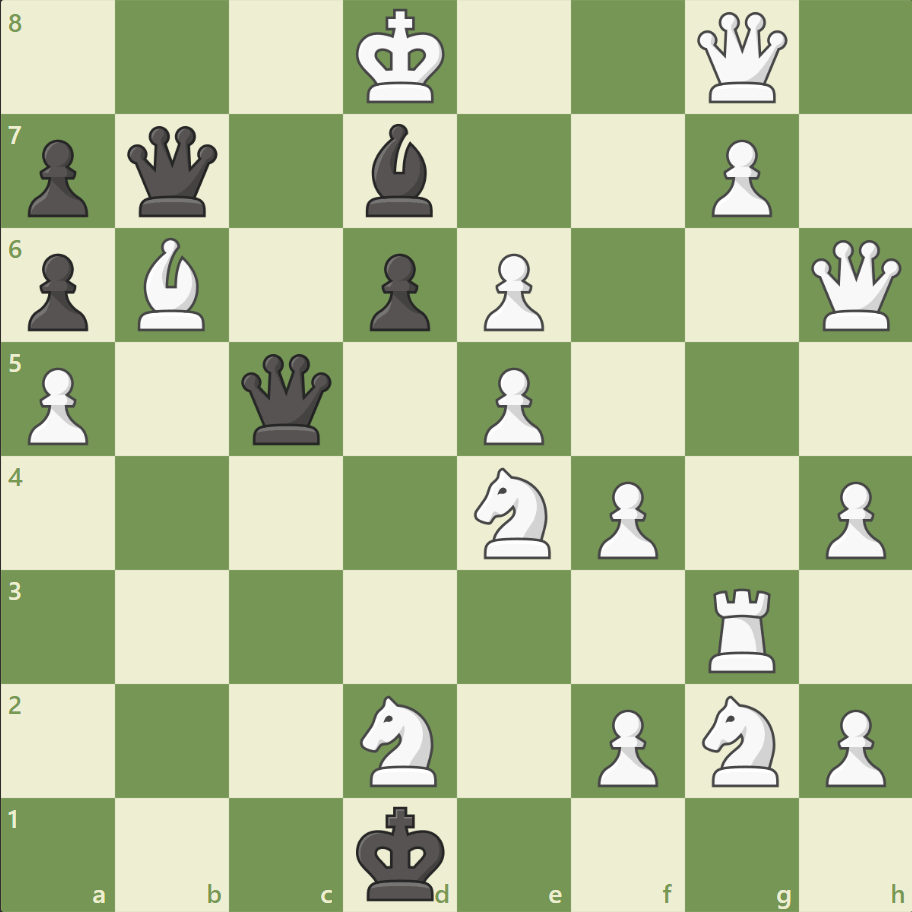B: (131, 233, 215, 336)
K: (351, 4, 451, 112)
N: (351, 688, 449, 791), (465, 461, 562, 564), (692, 688, 789, 791)
P: (701, 132, 776, 223), (474, 246, 549, 337), (20, 359, 95, 450), (474, 359, 549, 450), (588, 473, 662, 564), (815, 473, 889, 564), (588, 700, 662, 791), (815, 700, 889, 791)
Q: (691, 9, 790, 108), (805, 236, 904, 335)
R: (700, 579, 783, 676)
b: (358, 120, 442, 222)
k: (351, 798, 451, 906)
p: (20, 132, 95, 223), (20, 246, 95, 337), (361, 246, 435, 337)
q: (124, 122, 223, 222), (237, 349, 336, 449)
